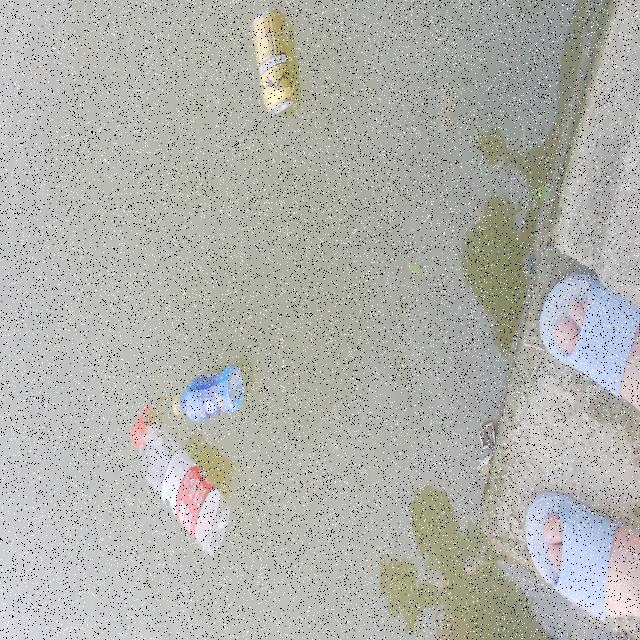Bottle: (125, 414, 229, 557), (170, 361, 245, 425)
Can: (248, 5, 300, 116)
